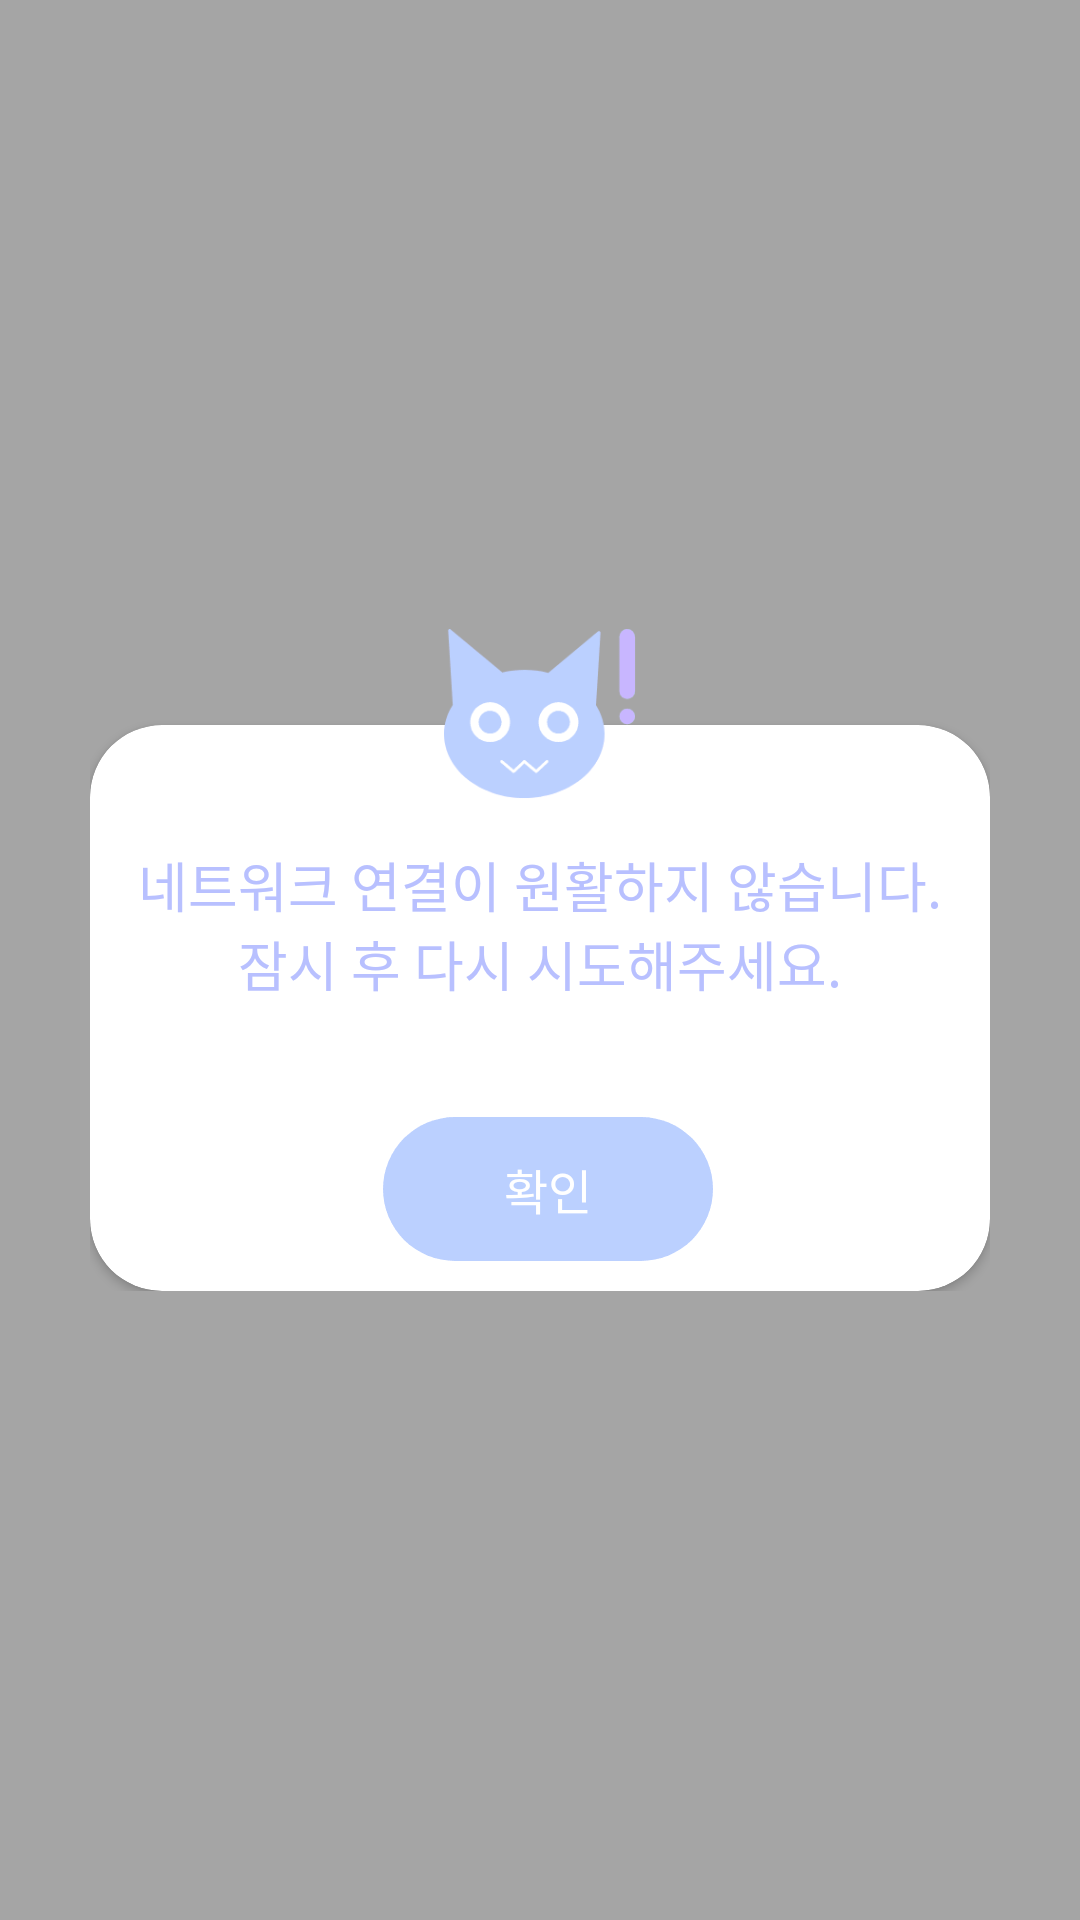

Screen size 1080px x 1920px. Icon name, then its center in pixels as [x,y]:
cat wow: [540,714]
